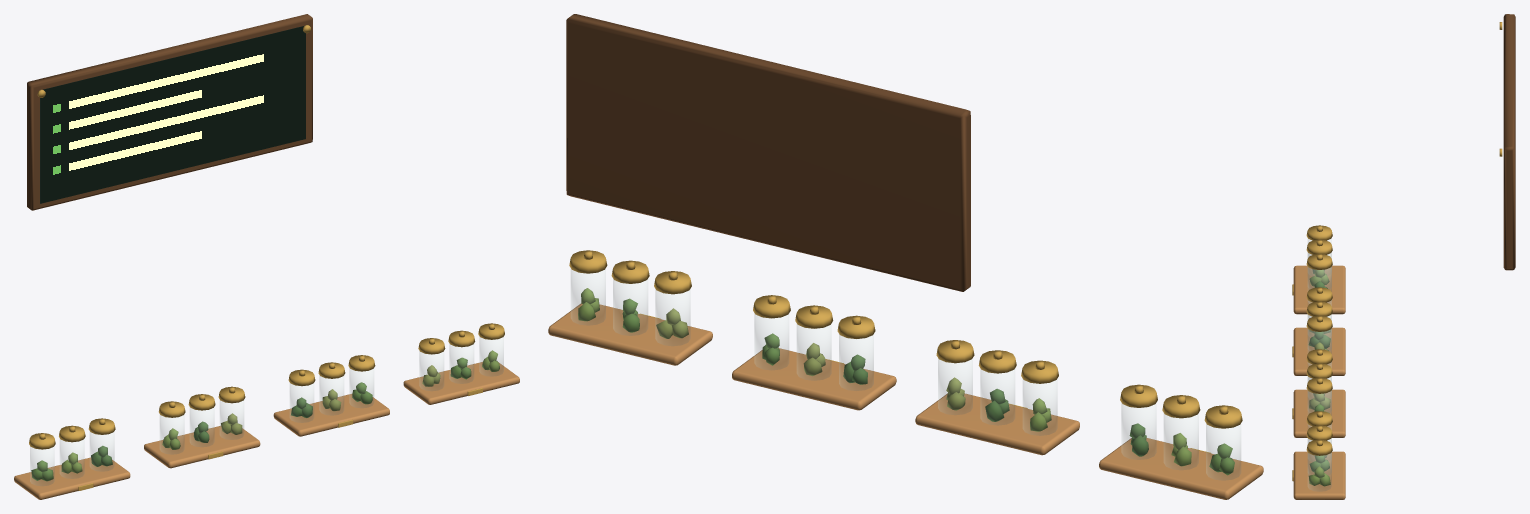
Rendered from rooftop_jar_flight.glb.
3 views of the same model, side by side, from view 1: azimuth 30°, elevation 25°; view 2: azimuth 150°, elevation 25°; view 3: azimuth 270°, elevation 25° (orthographic). The views are drawn at different scales.
Parts seen in each view (by area): view 1: MenuFace, MenuFrame, Board1, Board3, Board2, Board0, Jar1, Jar4, Jar8, Jar9, Jar10, Jar0 (+6 smaller); view 2: MenuFrame, Board2, Board1, Board0, Board3, Jar2, Jar9, Jar1, Jar5, Jar7, Jar10, Jar0 (+5 smaller); view 3: MenuFrame, Board3, Board0, Board2, Board1, Jar11, Jar5, Jar2, Jar8, Jar10, Jar1, Jar4 (+14 smaller).
Boxes of the visible parts, <box> form: MenuFace: <box>40,26,305,203</box>; MenuFrame: <box>27,14,312,210</box>; Board1: <box>144,425,260,468</box>; Board3: <box>403,362,519,404</box>; Board2: <box>273,394,389,436</box>; Board0: <box>14,457,130,499</box>; Jar1: <box>60,439,84,478</box>; Jar4: <box>190,407,214,446</box>; Jar8: <box>349,369,373,407</box>; Jar9: <box>419,352,443,390</box>; Jar10: <box>449,344,473,383</box>; Jar0: <box>30,447,54,485</box>; MenuFrame: <box>566,14,970,291</box>; Board2: <box>732,348,896,410</box>; Board1: <box>915,393,1079,455</box>; Board0: <box>1099,438,1263,499</box>; Board3: <box>548,303,712,365</box>; Jar2: <box>1121,403,1156,459</box>; Jar9: <box>655,290,690,345</box>; Jar1: <box>1164,414,1198,469</box>; Jar5: <box>938,359,972,414</box>; Jar7: <box>797,324,831,380</box>; Jar10: <box>613,279,647,335</box>; Jar0: <box>1206,424,1240,480</box>; MenuFrame: <box>1503,14,1515,270</box>; Board3: <box>1293,451,1345,499</box>; Board0: <box>1293,265,1345,314</box>; Board2: <box>1293,389,1345,437</box>; Board1: <box>1293,327,1345,375</box>; Jar11: <box>1308,453,1331,491</box>; Jar5: <box>1308,329,1331,364</box>; Jar2: <box>1308,267,1331,302</box>; Jar8: <box>1308,391,1331,426</box>; Jar10: <box>1308,438,1331,474</box>; Jar1: <box>1308,253,1331,288</box>; Jar4: <box>1308,315,1331,350</box>.
Bounding box in the file's own units: 1.61 × 1 × 0.661.
Materials: 10 (1 with a texture image).
